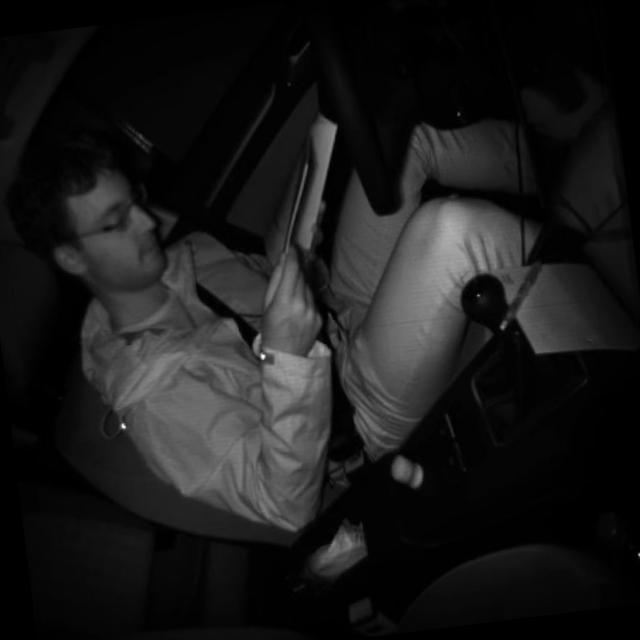pen: (491, 258, 550, 332)
